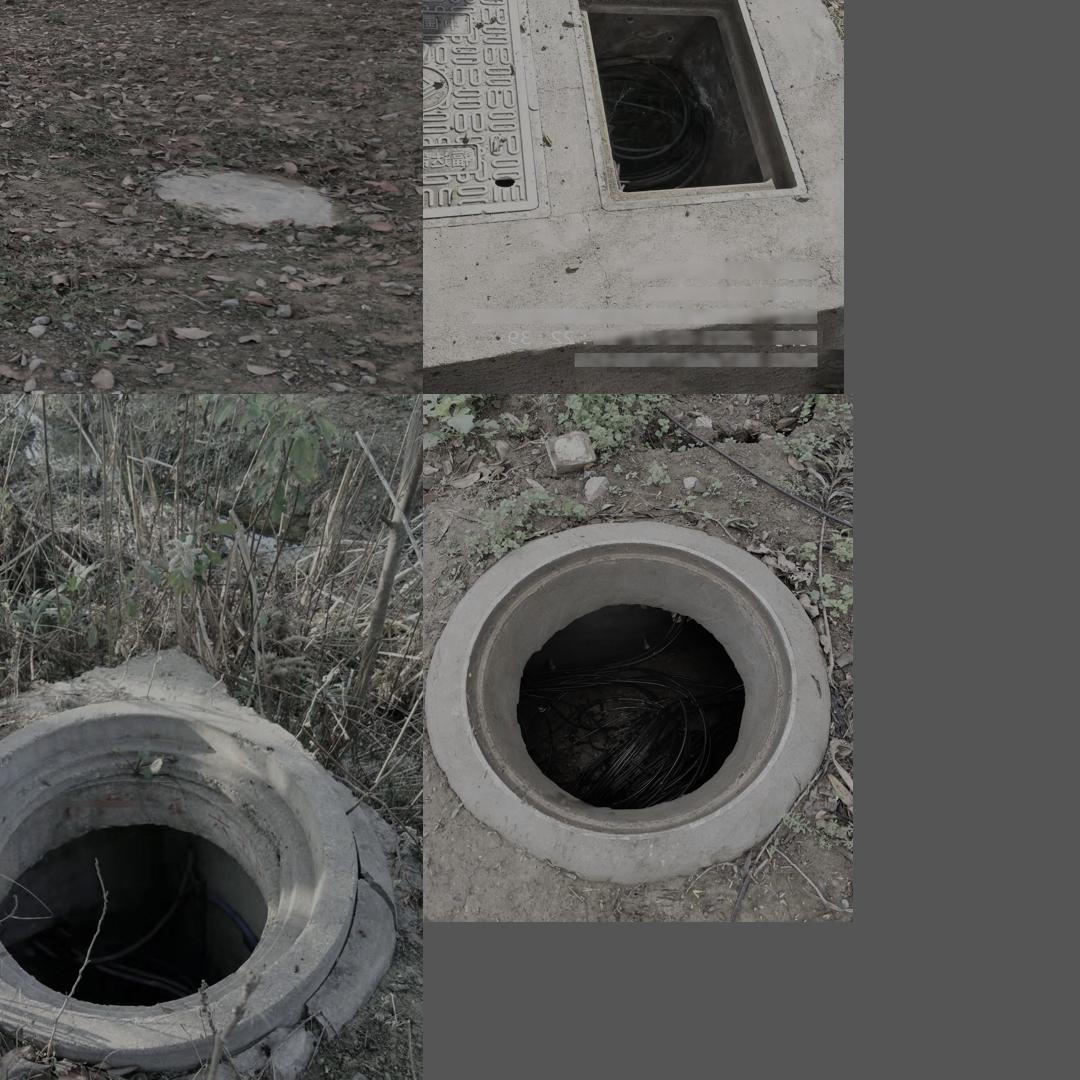lose: (0, 697, 359, 1075), (483, 527, 814, 834), (568, 0, 808, 212)
